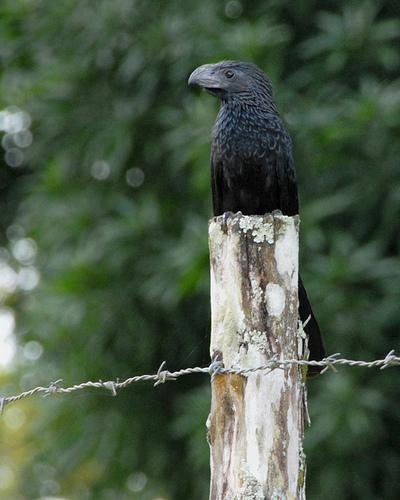004.Groove_billed_Ani: (186, 56, 307, 215)
